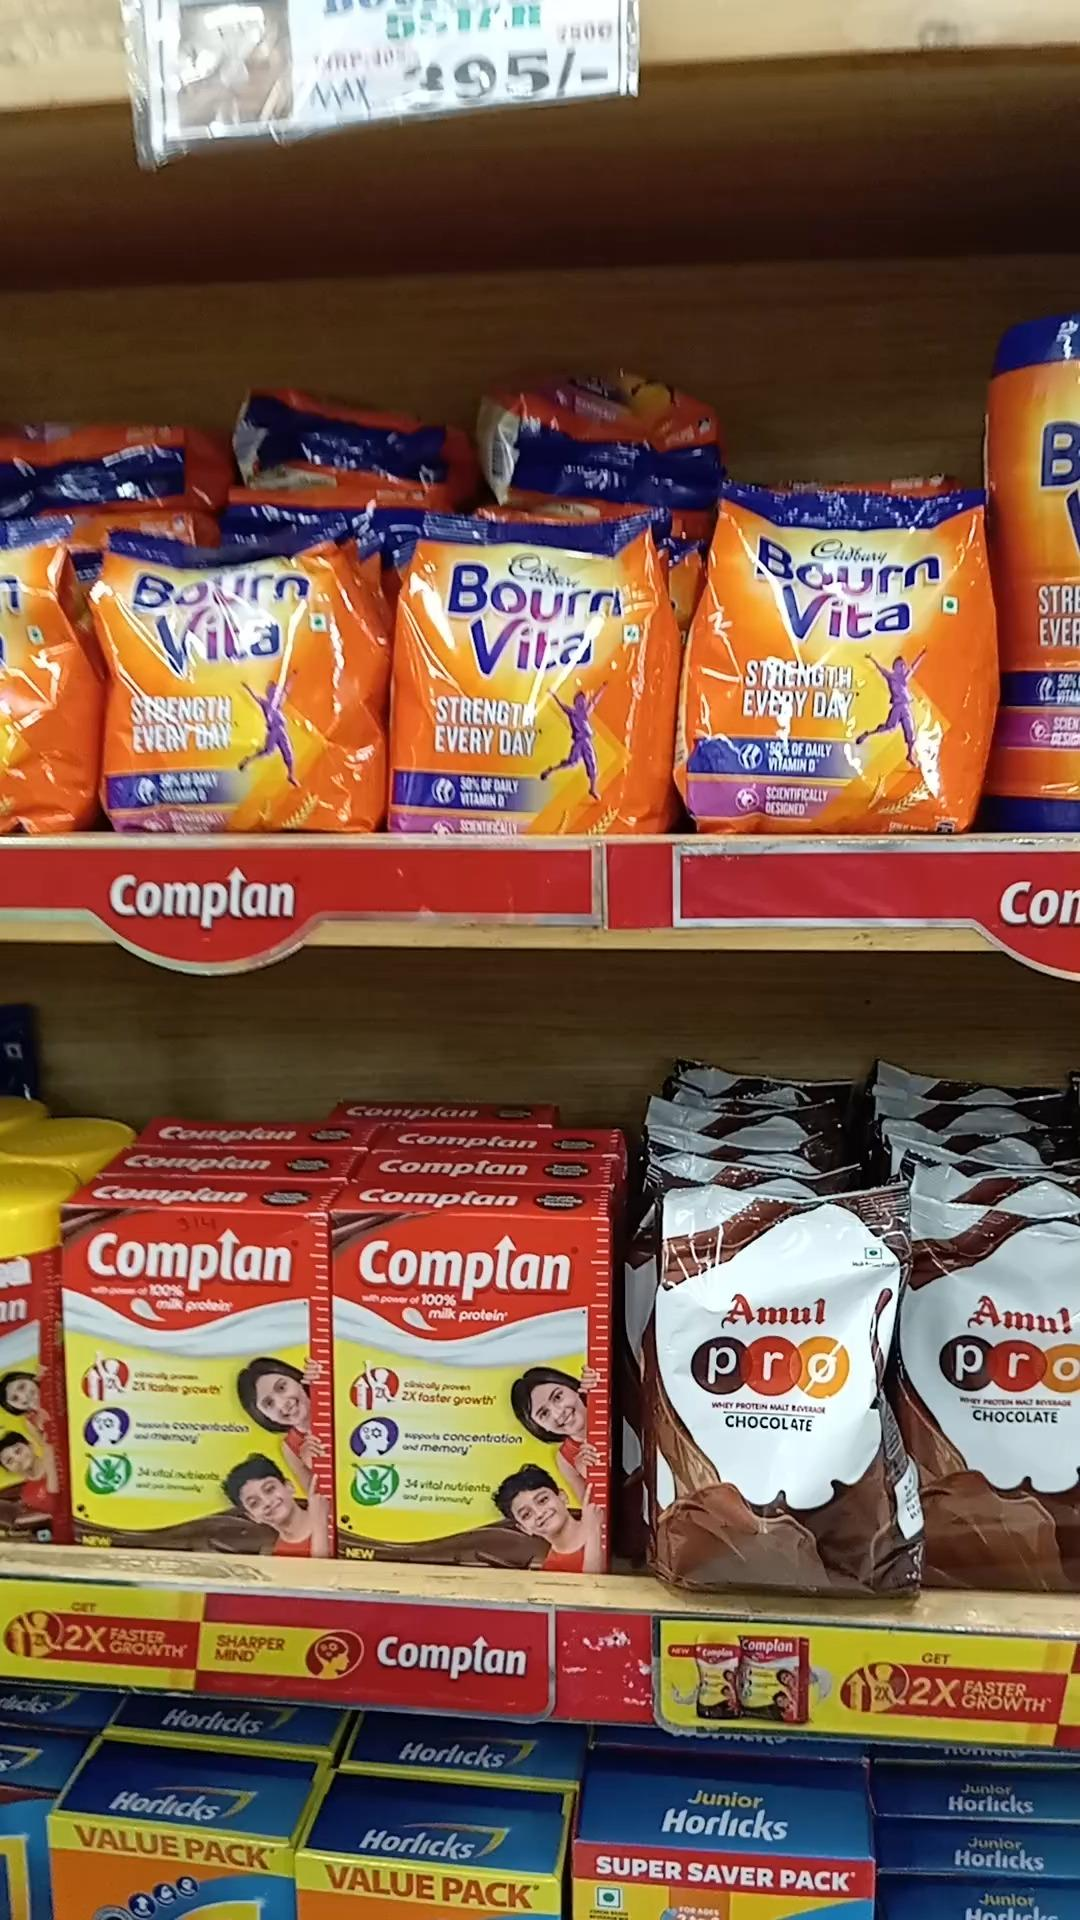BOURN_VITA_500_G_POUCH: (698, 473, 976, 832), (402, 504, 667, 837), (112, 517, 375, 831)
COMPLAN_CHOCOLATE_500_GMS_PACK: (335, 1205, 609, 1565), (65, 1203, 328, 1555)
